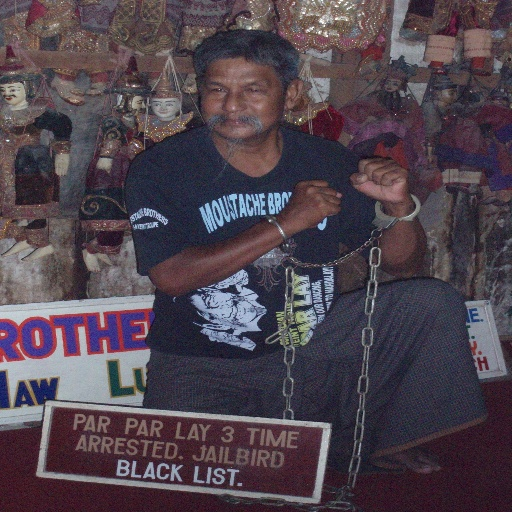hand: (344, 156, 412, 206), (283, 176, 352, 224)
